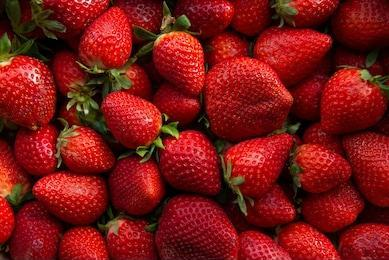Fresa: (197, 53, 297, 145), (151, 190, 244, 260), (251, 20, 338, 91), (314, 61, 389, 139), (217, 128, 296, 201), (30, 162, 113, 230), (1, 48, 61, 137), (157, 124, 225, 202), (96, 85, 167, 157), (148, 25, 211, 99), (74, 5, 140, 75), (107, 149, 167, 220), (289, 138, 357, 199), (56, 120, 118, 178), (9, 197, 64, 260), (10, 118, 63, 178)
